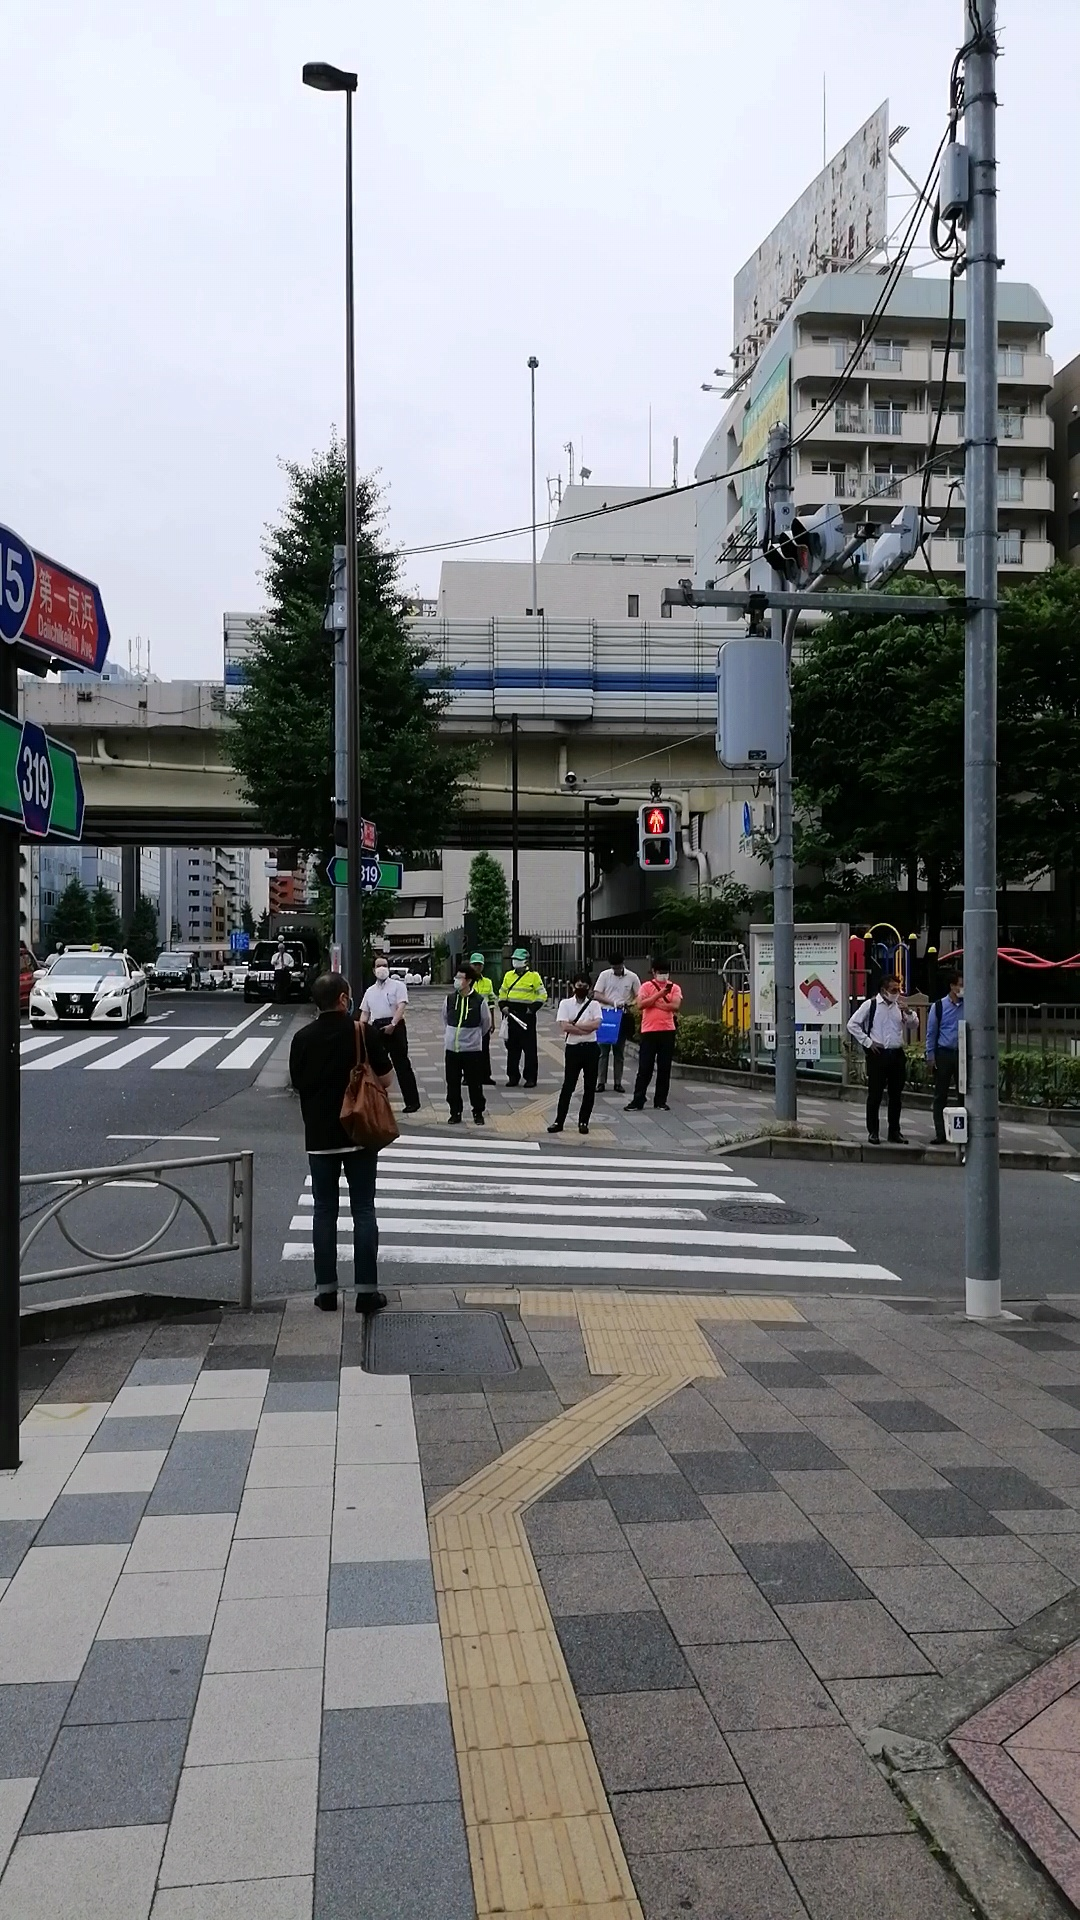red: (636, 802, 676, 870)
